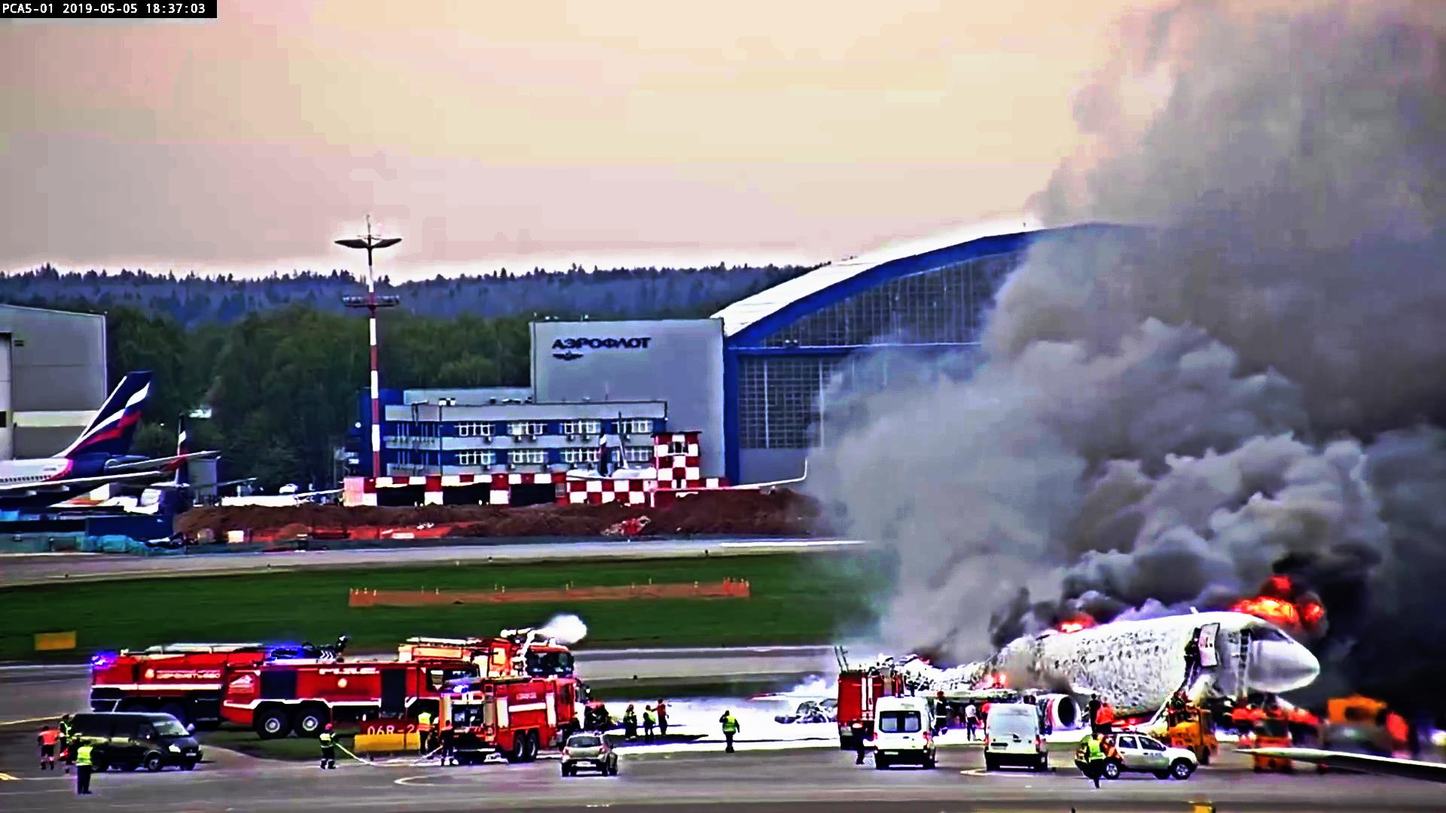fire: (1247, 582, 1317, 628)
smoke: (1100, 0, 1446, 420), (998, 236, 1227, 581), (840, 318, 1058, 630), (1164, 446, 1446, 575)
